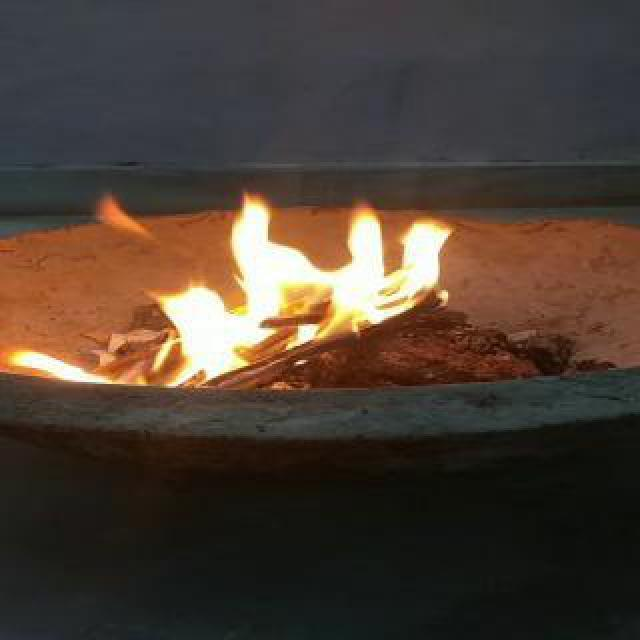Fire: (12, 188, 496, 390)
